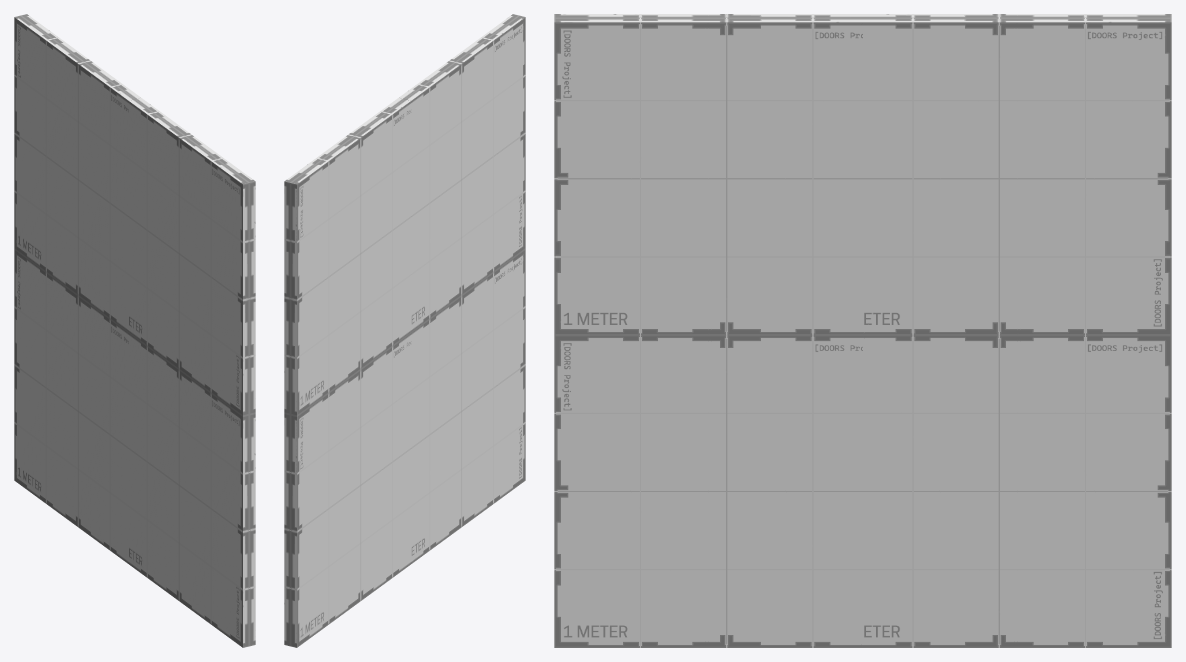
Rendered from DoubleDoor.obj.
3 views of the same model, side by side, from view 1: azimuth 30°, elevation 25°; view 2: azimuth 150°, elevation 25°; view 3: azimuth 270°, elevation 25° (orthographic). The views are drawn at different scales.
Visible parts, largest first — view 1: LeftDoor, RightDOOR; view 2: RightDOOR, LeftDoor; view 3: LeftDoor, RightDOOR.
Boxes of the visible parts, <box> form: LeftDoor: <box>128,98,255,647</box>; RightDOOR: <box>14,14,140,563</box>; RightDOOR: <box>284,98,411,647</box>; LeftDoor: <box>399,14,525,563</box>; LeftDoor: <box>554,14,862,647</box>; RightDOOR: <box>863,14,1171,647</box>.
Bounding box in the file's own units: 0.0572 × 2 × 1.79.
